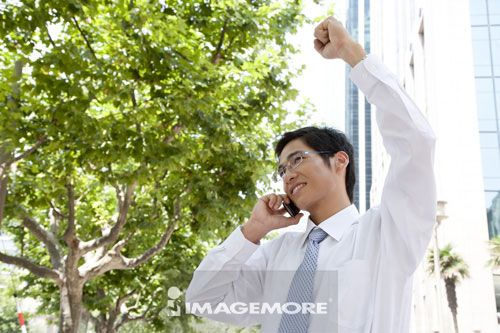talk: (245, 148, 320, 239)
